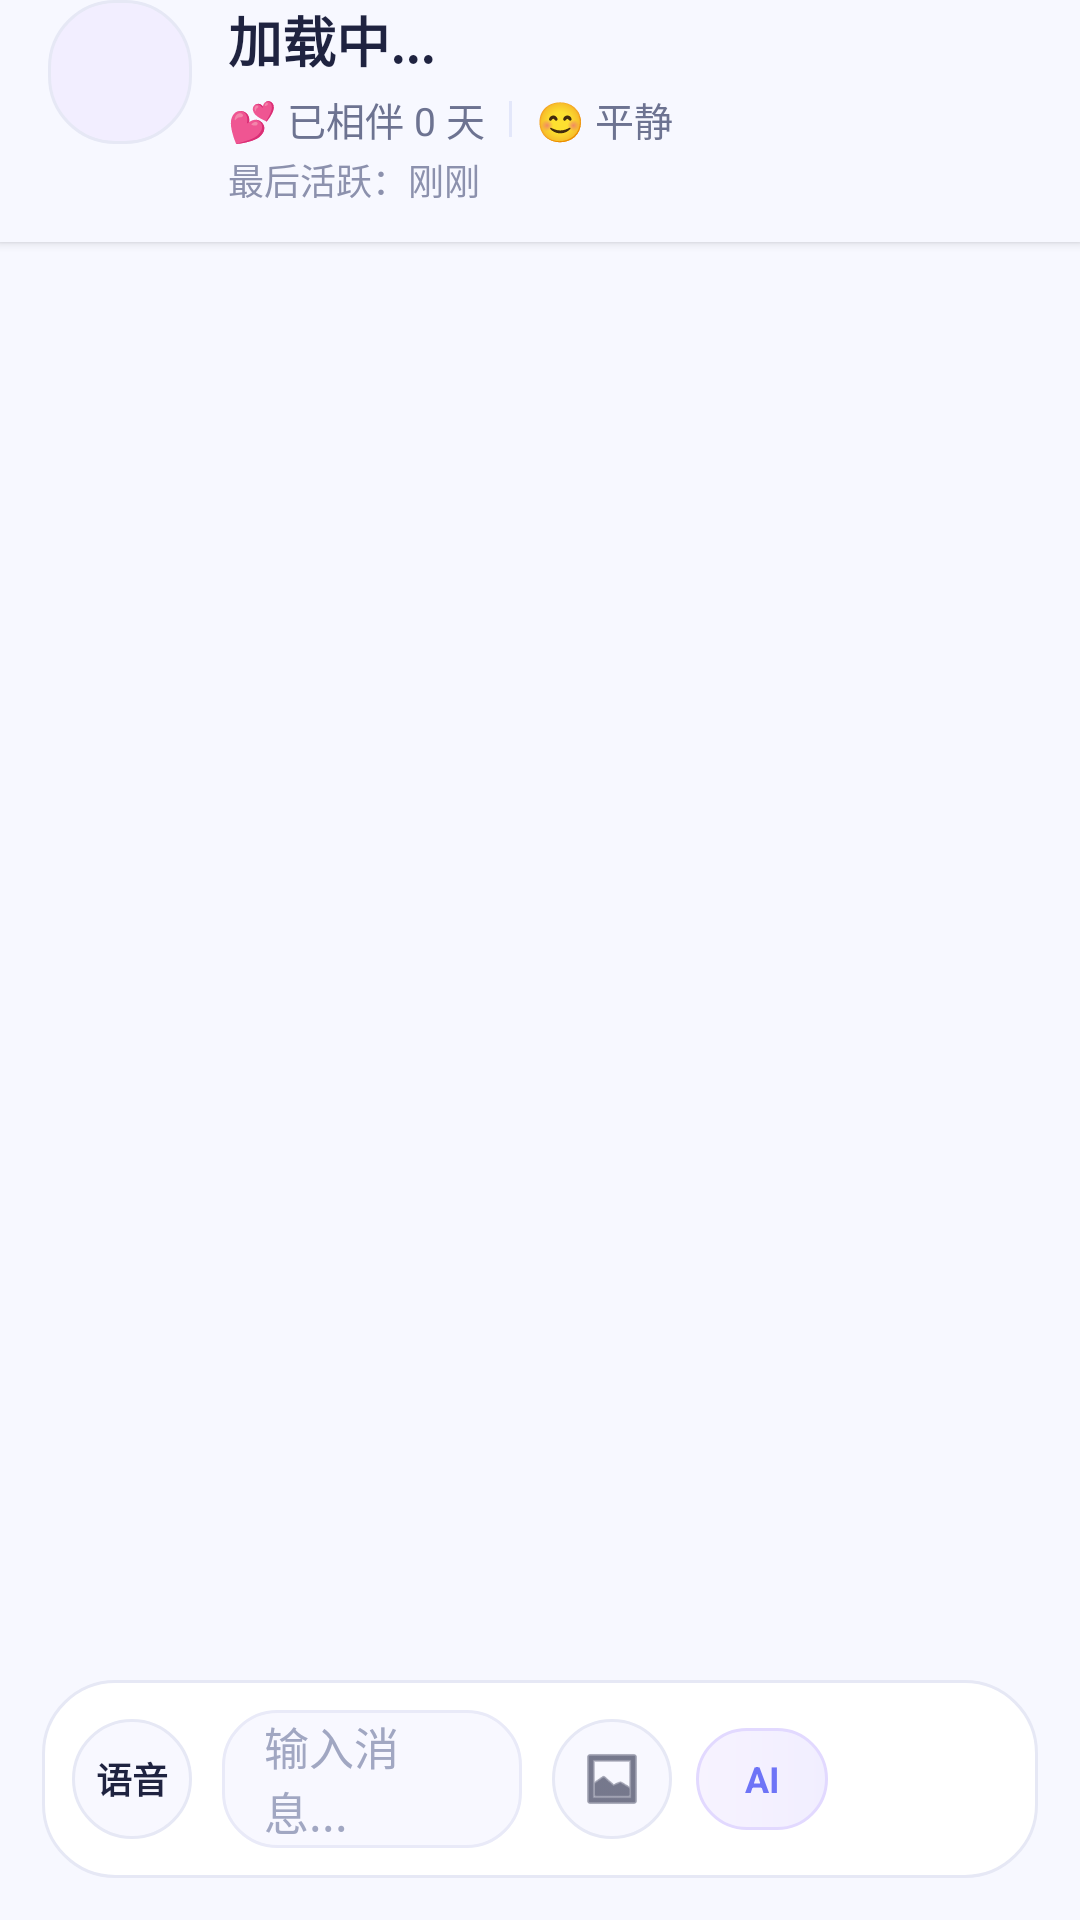

Point at icon controls on the screen. Image size 1080w x 1920h, points as point (x, y).
发送照片: point (612, 1779)
